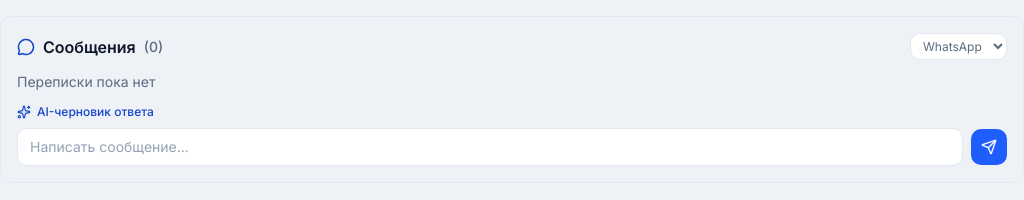
Test: DealMessages (омниканальный инбокс) › показывает заглушку, если AI вернул null
The width and height of the screenshot is (1024, 200).
Expected: the text "Переписки пока нет" is shown, [17,73,156,90]
Click the button "AI-черновик ответа": (85, 112) [17,104,154,120]
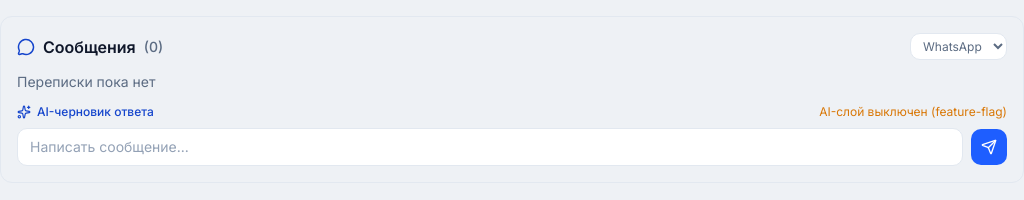
Result: the text "AI-слой выключен (feature-flag)" is shown at [819,104,1007,120]
